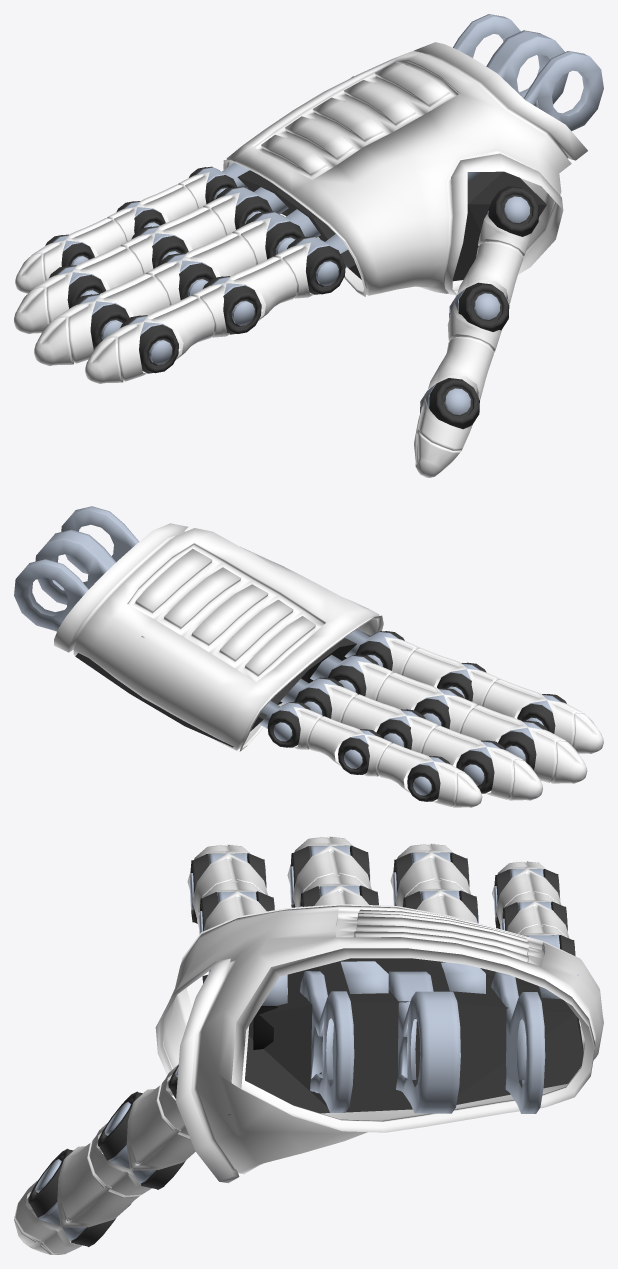
Rendered from rightHand.dae.
3 views of the same model, one above another, from view 1: azimuth 30°, elevation 25°; view 2: azimuth 150°, elevation 25°; view 3: azimuth 270°, elevation 25° (orthographic). The views are drawn at different scales.
Visible parts, largest first — view 1: Mesh_011, Circle_065, Cube_002, Circle_183, Circle_185, Circle_186, Circle_182, Circle_190, Circle_188, Circle_189, Circle_187, Circle_184 (+22 smaller); view 2: Mesh_011, Circle_065, Circle_190, Circle_188, Circle_189, Circle_193, Circle_191, Circle_185, Circle_186, Circle_192, Circle_194, Circle_195 (+19 smaller); view 3: Mesh_011, Cube_002, Circle_065, Circle_183, Circle_182, Circle_189, Circle_218, Circle_217, Circle_186, Circle_192, Circle_184, Circle_195 (+14 smaller).
Boxes of the visible parts, box(x1,y1,x2,y2) form: Mesh_011: box(223, 42, 587, 296); Circle_065: box(453, 14, 603, 131); Cube_002: box(237, 170, 546, 281); Circle_183: box(428, 300, 501, 399); Circle_185: box(226, 242, 313, 320); Circle_186: box(143, 282, 229, 359); Circle_182: box(457, 214, 531, 304); Circle_190: box(34, 300, 95, 365); Circle_188: box(182, 218, 270, 277); Circle_189: box(95, 259, 184, 317); Circle_187: box(85, 321, 146, 383); Circle_184: box(414, 397, 472, 477); Mesh_011: box(54, 523, 383, 751); Circle_065: box(14, 506, 139, 631); Circle_190: box(527, 727, 587, 783); Circle_188: box(357, 661, 443, 710); Circle_189: box(442, 693, 527, 742); Circle_193: box(485, 746, 542, 800); Circle_191: box(324, 683, 406, 732); Circle_185: box(384, 637, 466, 687); Circle_186: box(467, 668, 547, 718); Circle_192: box(406, 715, 486, 767); Circle_194: box(293, 707, 364, 765); Circle_195: box(363, 734, 433, 792); Mesh_011: box(155, 904, 603, 1183); Cube_002: box(202, 958, 583, 1115); Circle_065: box(253, 971, 545, 1113); Circle_183: box(57, 1123, 151, 1227); Circle_182: box(126, 1064, 195, 1170); Circle_189: box(292, 846, 371, 907); Circle_218: box(28, 1148, 115, 1246); Circle_217: box(97, 1091, 185, 1189); Circle_186: box(192, 853, 267, 928); Circle_192: box(395, 853, 470, 906); Circle_184: box(14, 1180, 81, 1254); Circle_195: box(496, 869, 561, 929).
Bounding box in the file's own units: 3.04 × 1.85 × 1.46.
